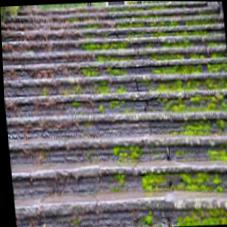Bench: (1, 28, 225, 212)
